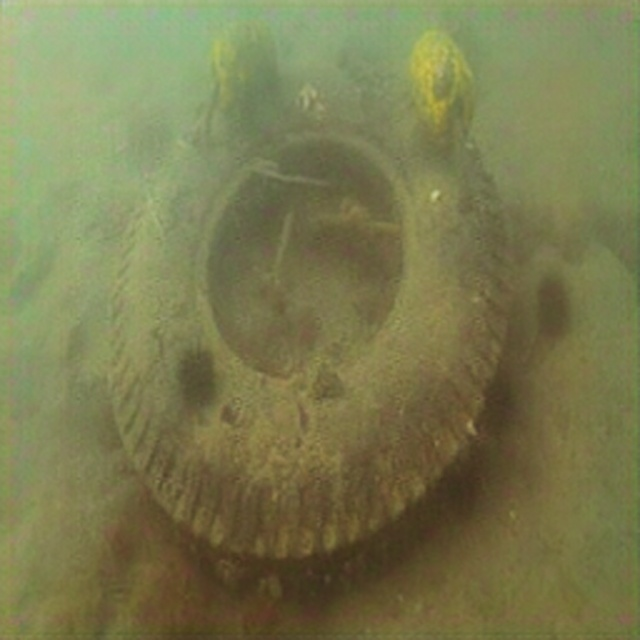mine: (107, 67, 512, 607)
